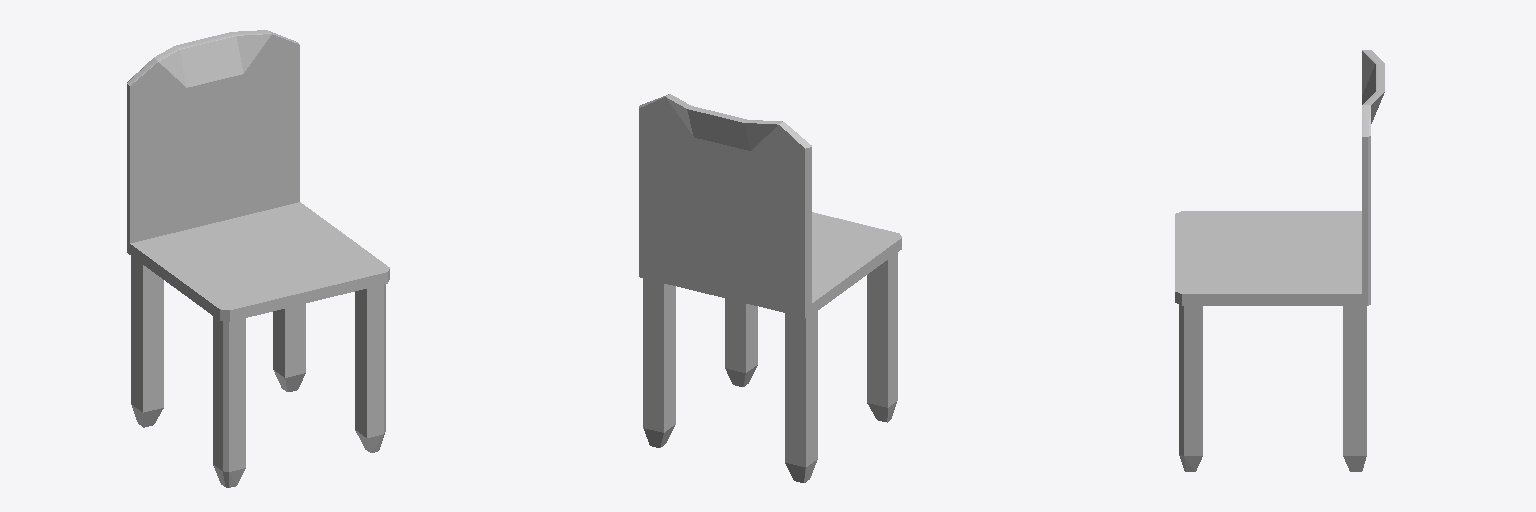
File: Chair.obj
3 renders of one model, left to right at view 1: azimuth 30°, elevation 25°; view 2: azimuth 150°, elevation 25°; view 3: azimuth 270°, elevation 25°, orthographic.
Visible parts, largest first — view 1: Cube.004_Cube.007; view 2: Cube.004_Cube.007; view 3: Cube.004_Cube.007.
Boxes of the visible parts, box(x1,y1,x2,y2) form: Cube.004_Cube.007: box(127, 30, 389, 487); Cube.004_Cube.007: box(639, 94, 901, 482); Cube.004_Cube.007: box(1175, 50, 1384, 471).
Bounding box in the file's own units: 3.46 × 6.93 × 3.71.